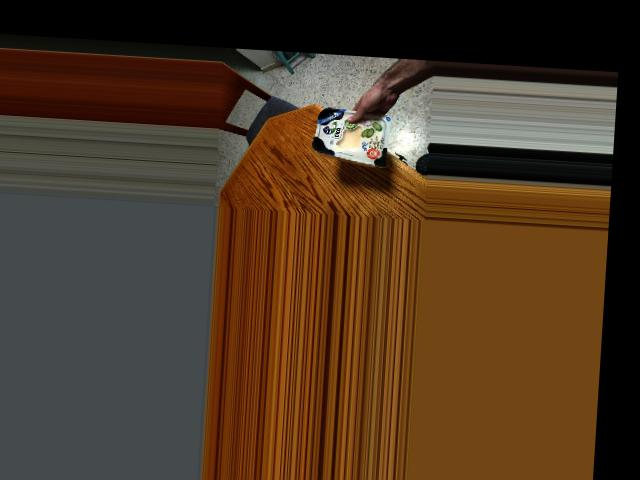cheese: (312, 98, 392, 166)
